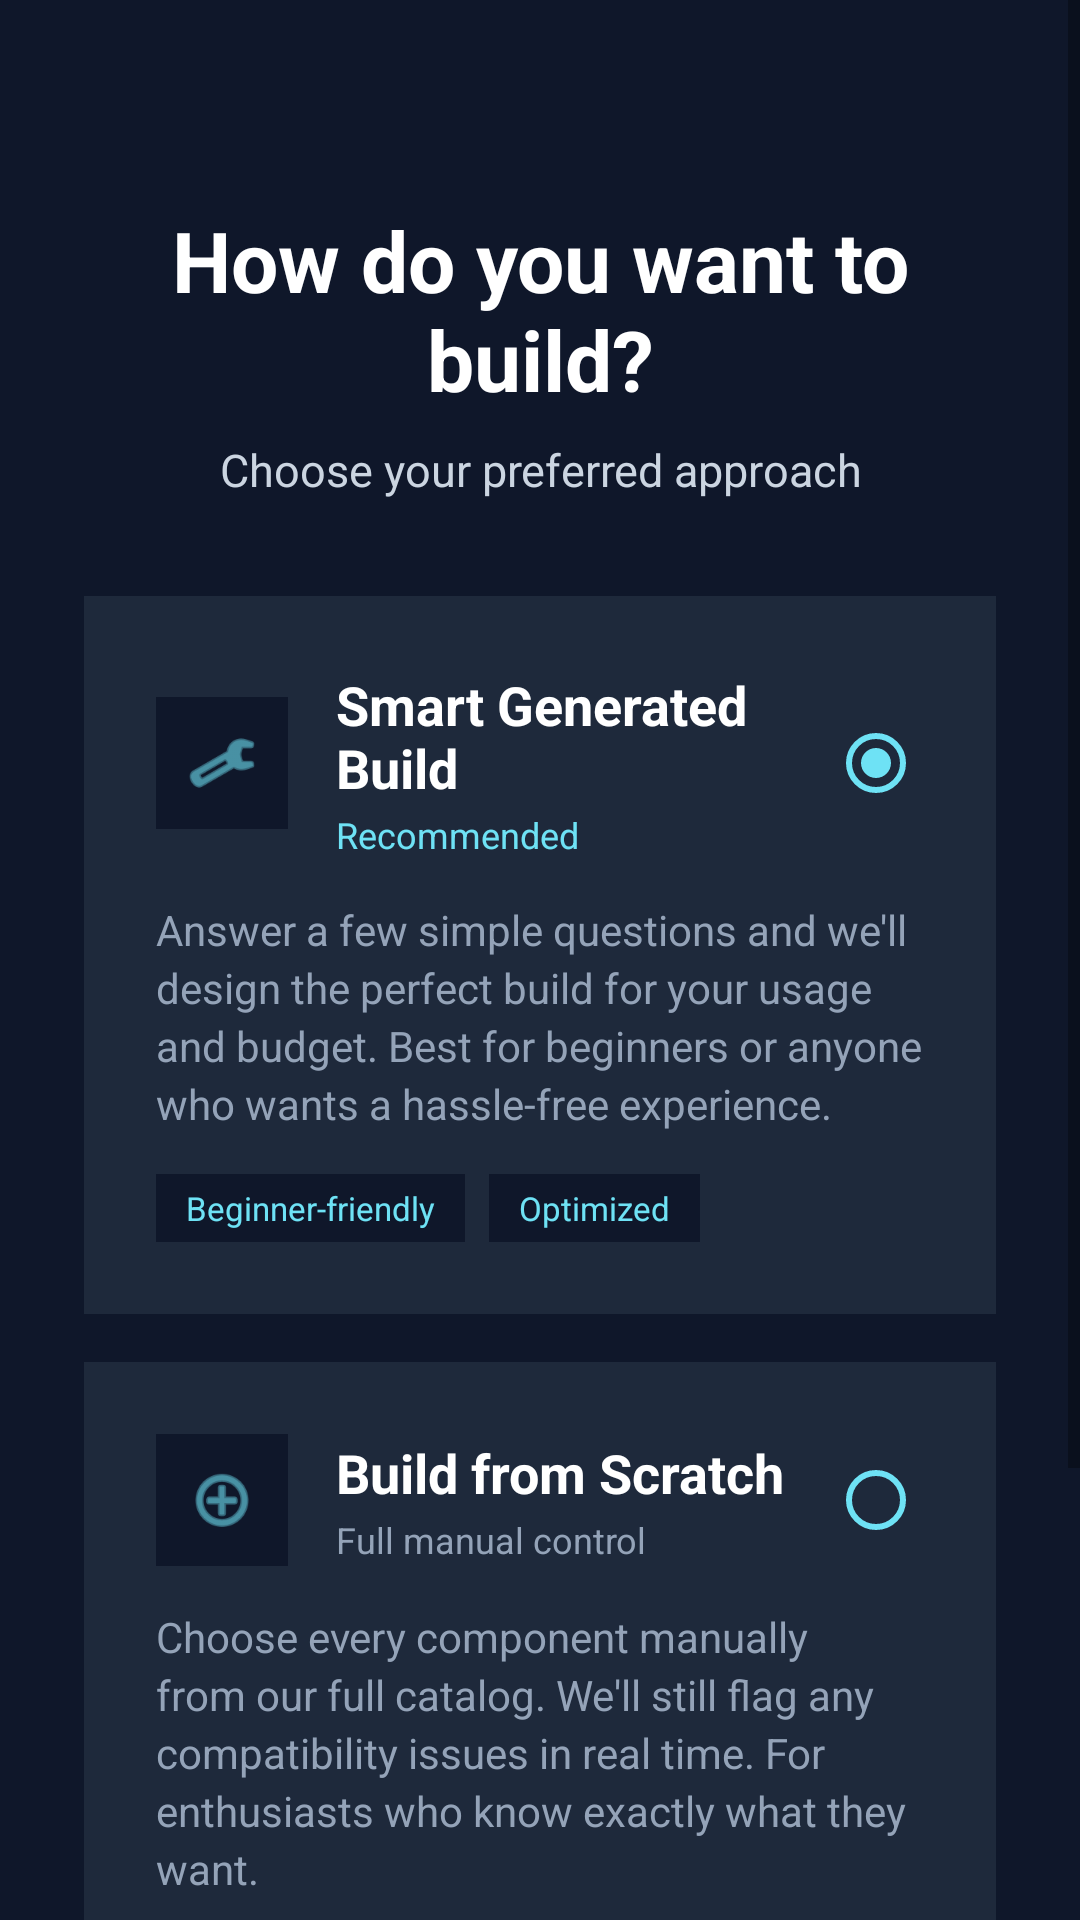

Locate icon controls on the screen. Image size 1080px×1920px, boxes as {"x1": x1, "y1": y1, "x2": x2, "y2": y2}.
add: {"x1": 196, "y1": 1474, "x2": 248, "y2": 1527}
